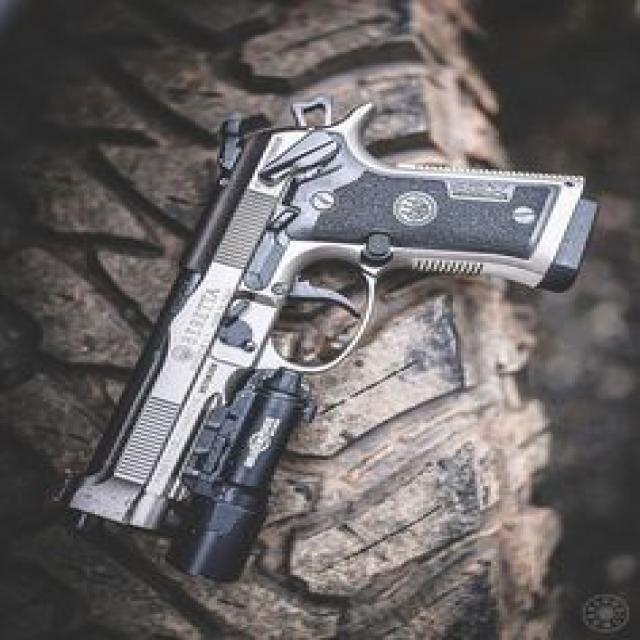semi automatic: (63, 85, 599, 602)
